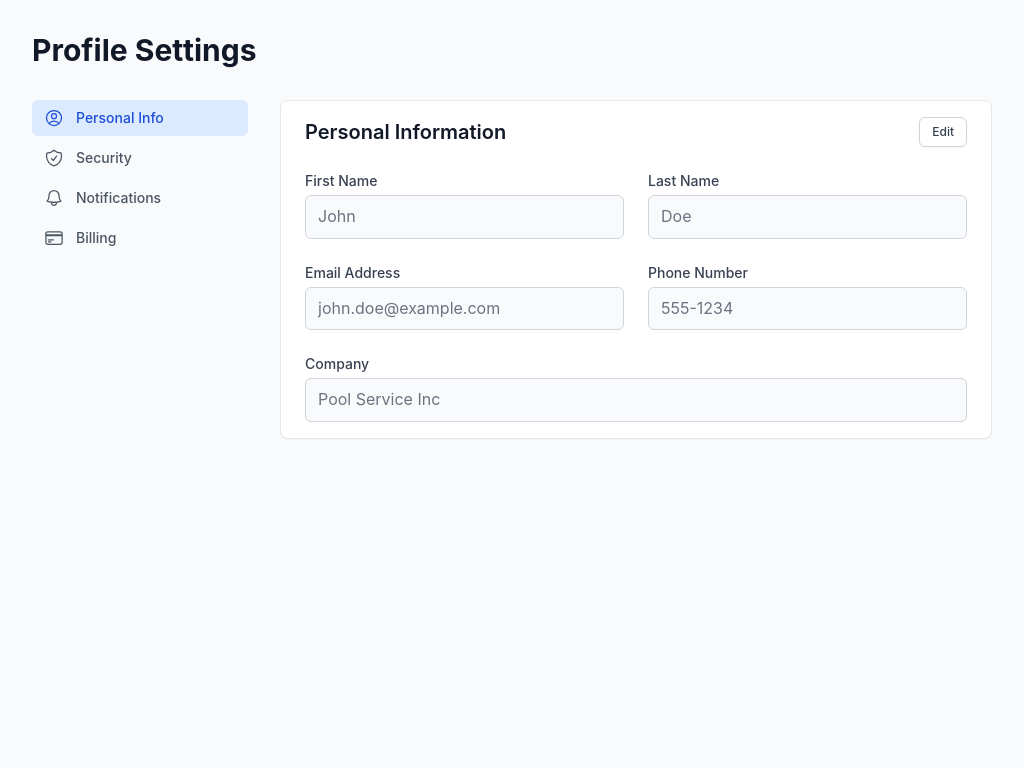
Scenario: ProfilePage › Tab Navigation › should switch to security tab when clicked
Click the button "Security" at (140, 158), box [32,140,248,176]
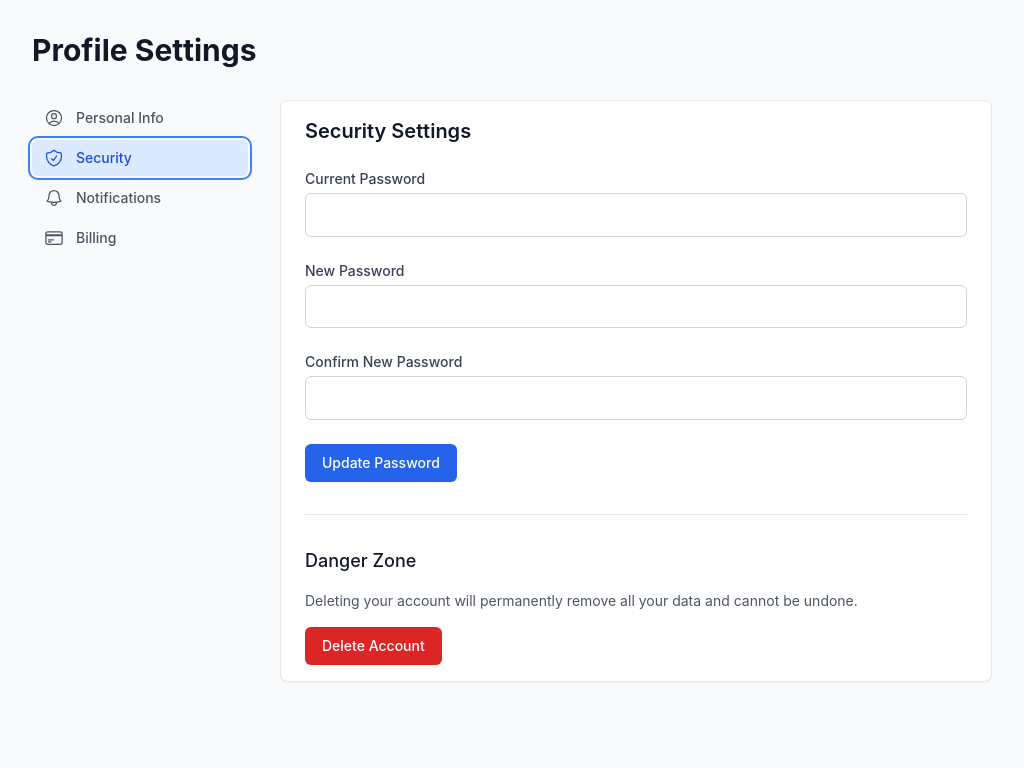
Now the heading "Security Settings" is shown, box [305,119,471,143]
Now the password field labelled "Current Password" is shown, box [305,193,967,237]
Now the button "Update Password" is shown, box [305,444,457,482]
